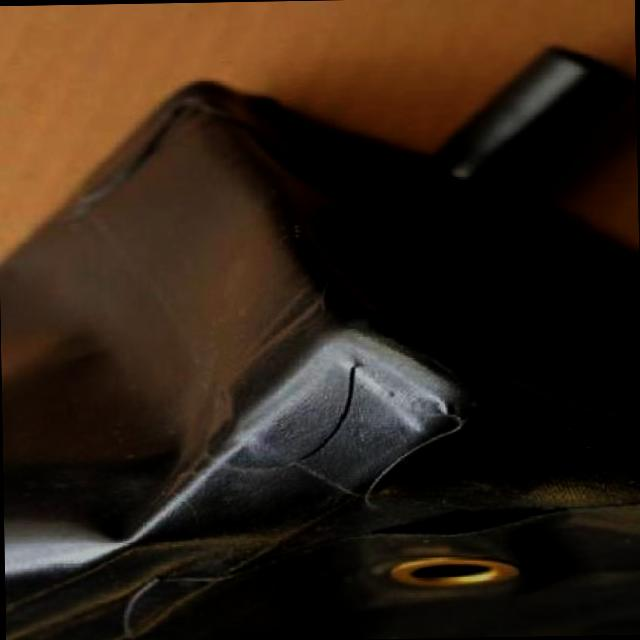crack: (284, 338, 359, 456)
